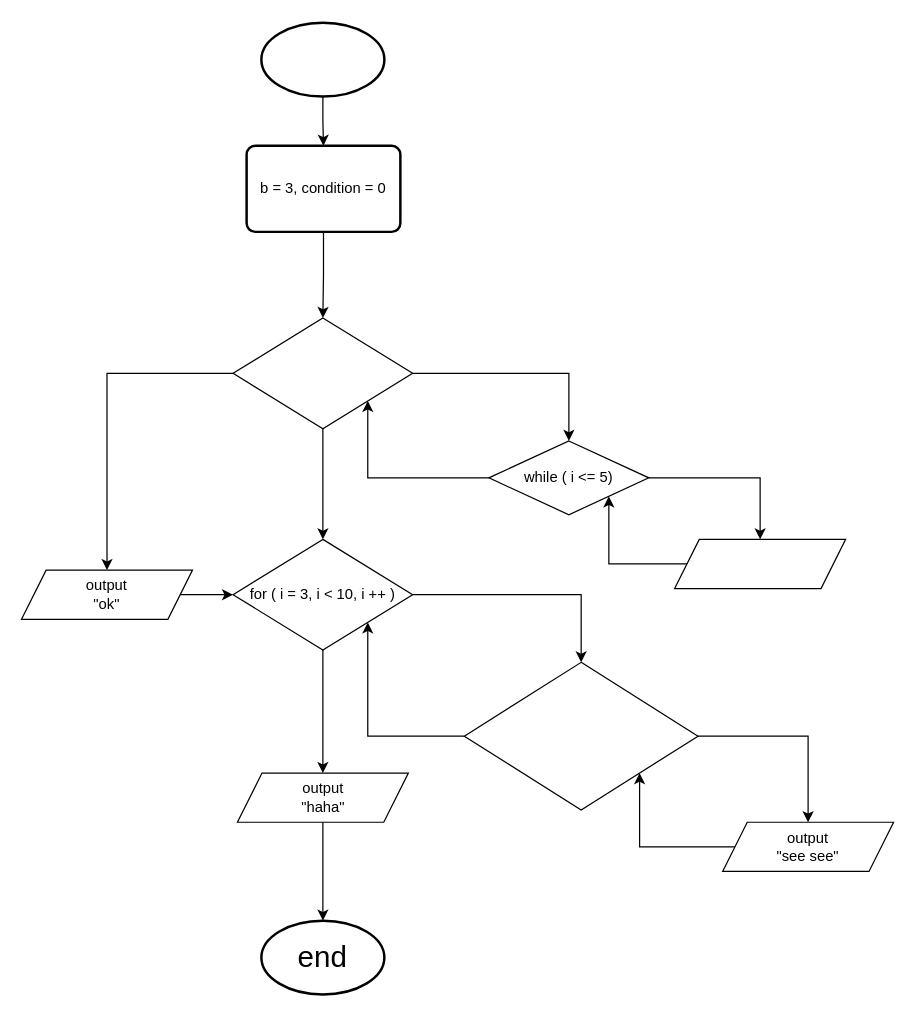
This 915x1016 diagram has some shape labels left out. The centre of each missing label's shape, as x and y in pixels:
if ( i % 2 == (condition ? 1: 2)): point (580, 735)
if (condition != 0): point (322, 373)
output "not-okey-", i++: point (759, 563)
start: point (322, 59)
